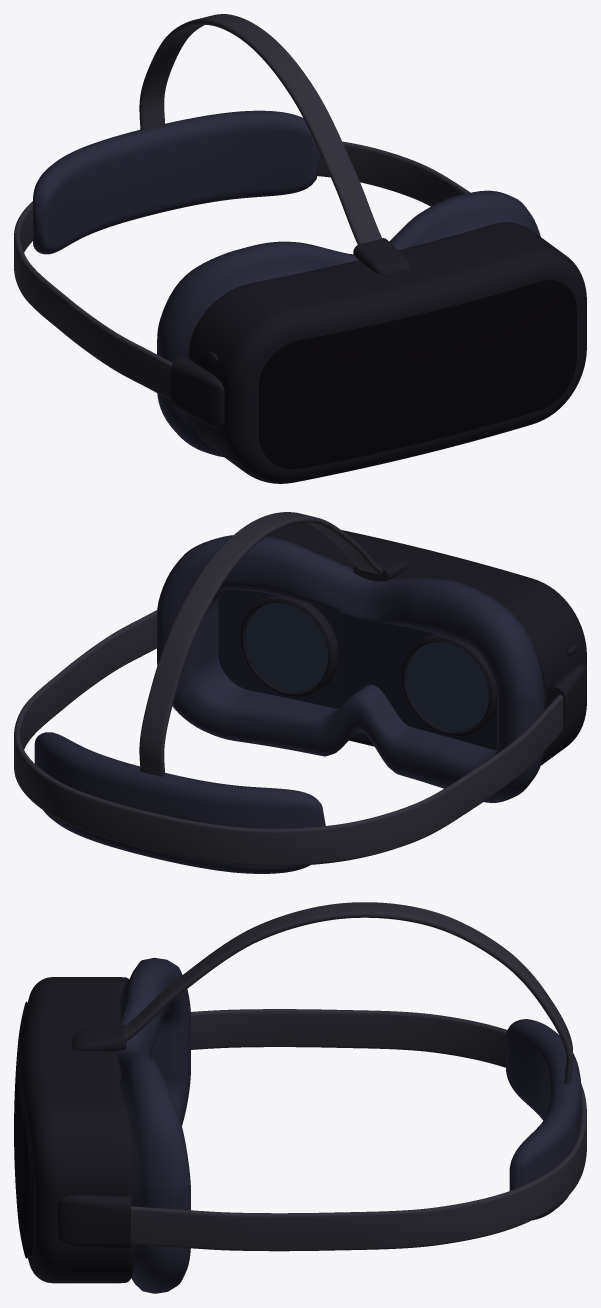
Rendered from visore.glb.
The picture shows the model from 3 angles, top to bottom: view 1: azimuth 30°, elevation 25°; view 2: azimuth 150°, elevation 25°; view 3: azimuth 270°, elevation 25°; orthographic projection.
Parts seen in each view (by area): view 1: front_panel, body, rear_cushion, face_gasket, rear_strap, top_strap, strap_mount_L, strap_mount; view 2: face_gasket, rear_strap, body, rear_cushion, top_strap, lens_L, lens_R, lens_barrel_R, lens_barrel_L, strap_mount_L, strap_mount; view 3: rear_strap, body, face_gasket, rear_cushion, top_strap, strap_mount_R, front_panel, strap_mount.
Part boxes in pixels (<box>): front_panel: <box>259,280,576,469</box>; body: <box>188,222,586,483</box>; rear_cushion: <box>33,110,320,254</box>; face_gasket: <box>157,190,540,457</box>; rear_strap: <box>14,141,470,399</box>; top_strap: <box>139,14,381,244</box>; strap_mount_L: <box>171,356,224,427</box>; strap_mount: <box>353,238,410,274</box>; face_gasket: <box>157,535,544,802</box>; rear_strap: <box>14,610,563,866</box>; body: <box>218,523,586,765</box>; rear_cushion: <box>34,732,325,873</box>; top_strap: <box>139,512,382,776</box>; lens_L: <box>406,642,488,730</box>; lens_R: <box>245,603,327,691</box>; lens_barrel_R: <box>240,595,338,696</box>; lens_barrel_L: <box>401,633,496,735</box>; strap_mount_L: <box>546,664,586,737</box>; strap_mount: <box>353,554,410,581</box>; rear_strap: <box>131,1009,586,1251</box>; body: <box>20,977,135,1283</box>; face_gasket: <box>116,957,190,1293</box>; rear_cushion: <box>506,1019,581,1220</box>; top_strap: <box>124,902,572,1084</box>; strap_mount_R: <box>57,1194,132,1249</box>; front_panel: <box>14,1001,32,1258</box>; strap_mount: <box>72,1025,126,1051</box>.
Bounding box in the file's own units: 1.66 × 1.2 × 1.95.
